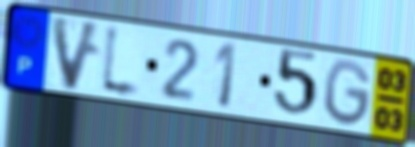1: (212, 40, 238, 111)
2: (158, 38, 204, 105)
5: (272, 46, 321, 124)
G: (323, 57, 374, 130)
L: (98, 20, 144, 104)
V: (48, 13, 105, 95)
